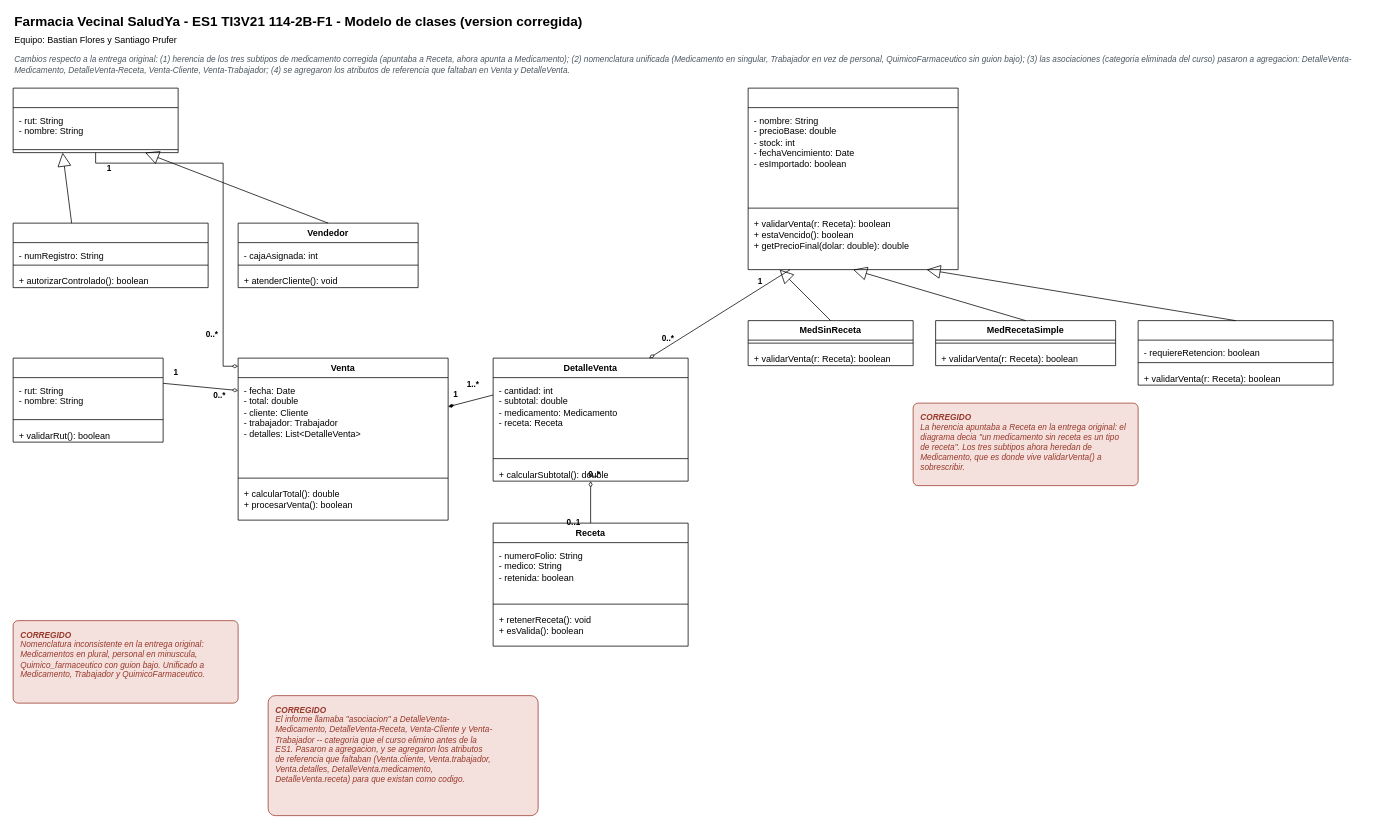
Image size: 1399x829. Some labels were removed from this diagram. The box of each missing label's shape, as (x1, y1, x2, y2) in pixels:
Cliente: (12, 357, 163, 442)
Medicamento: (747, 87, 958, 270)
MedRecetaControlado: (1137, 320, 1333, 385)
QuimicoFarmaceutico: (12, 222, 208, 288)
Trabajador: (12, 87, 178, 153)
